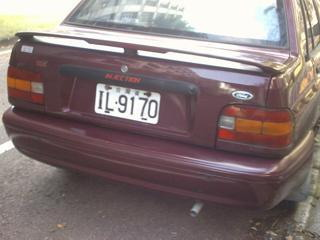plate: (95, 83, 161, 125)
